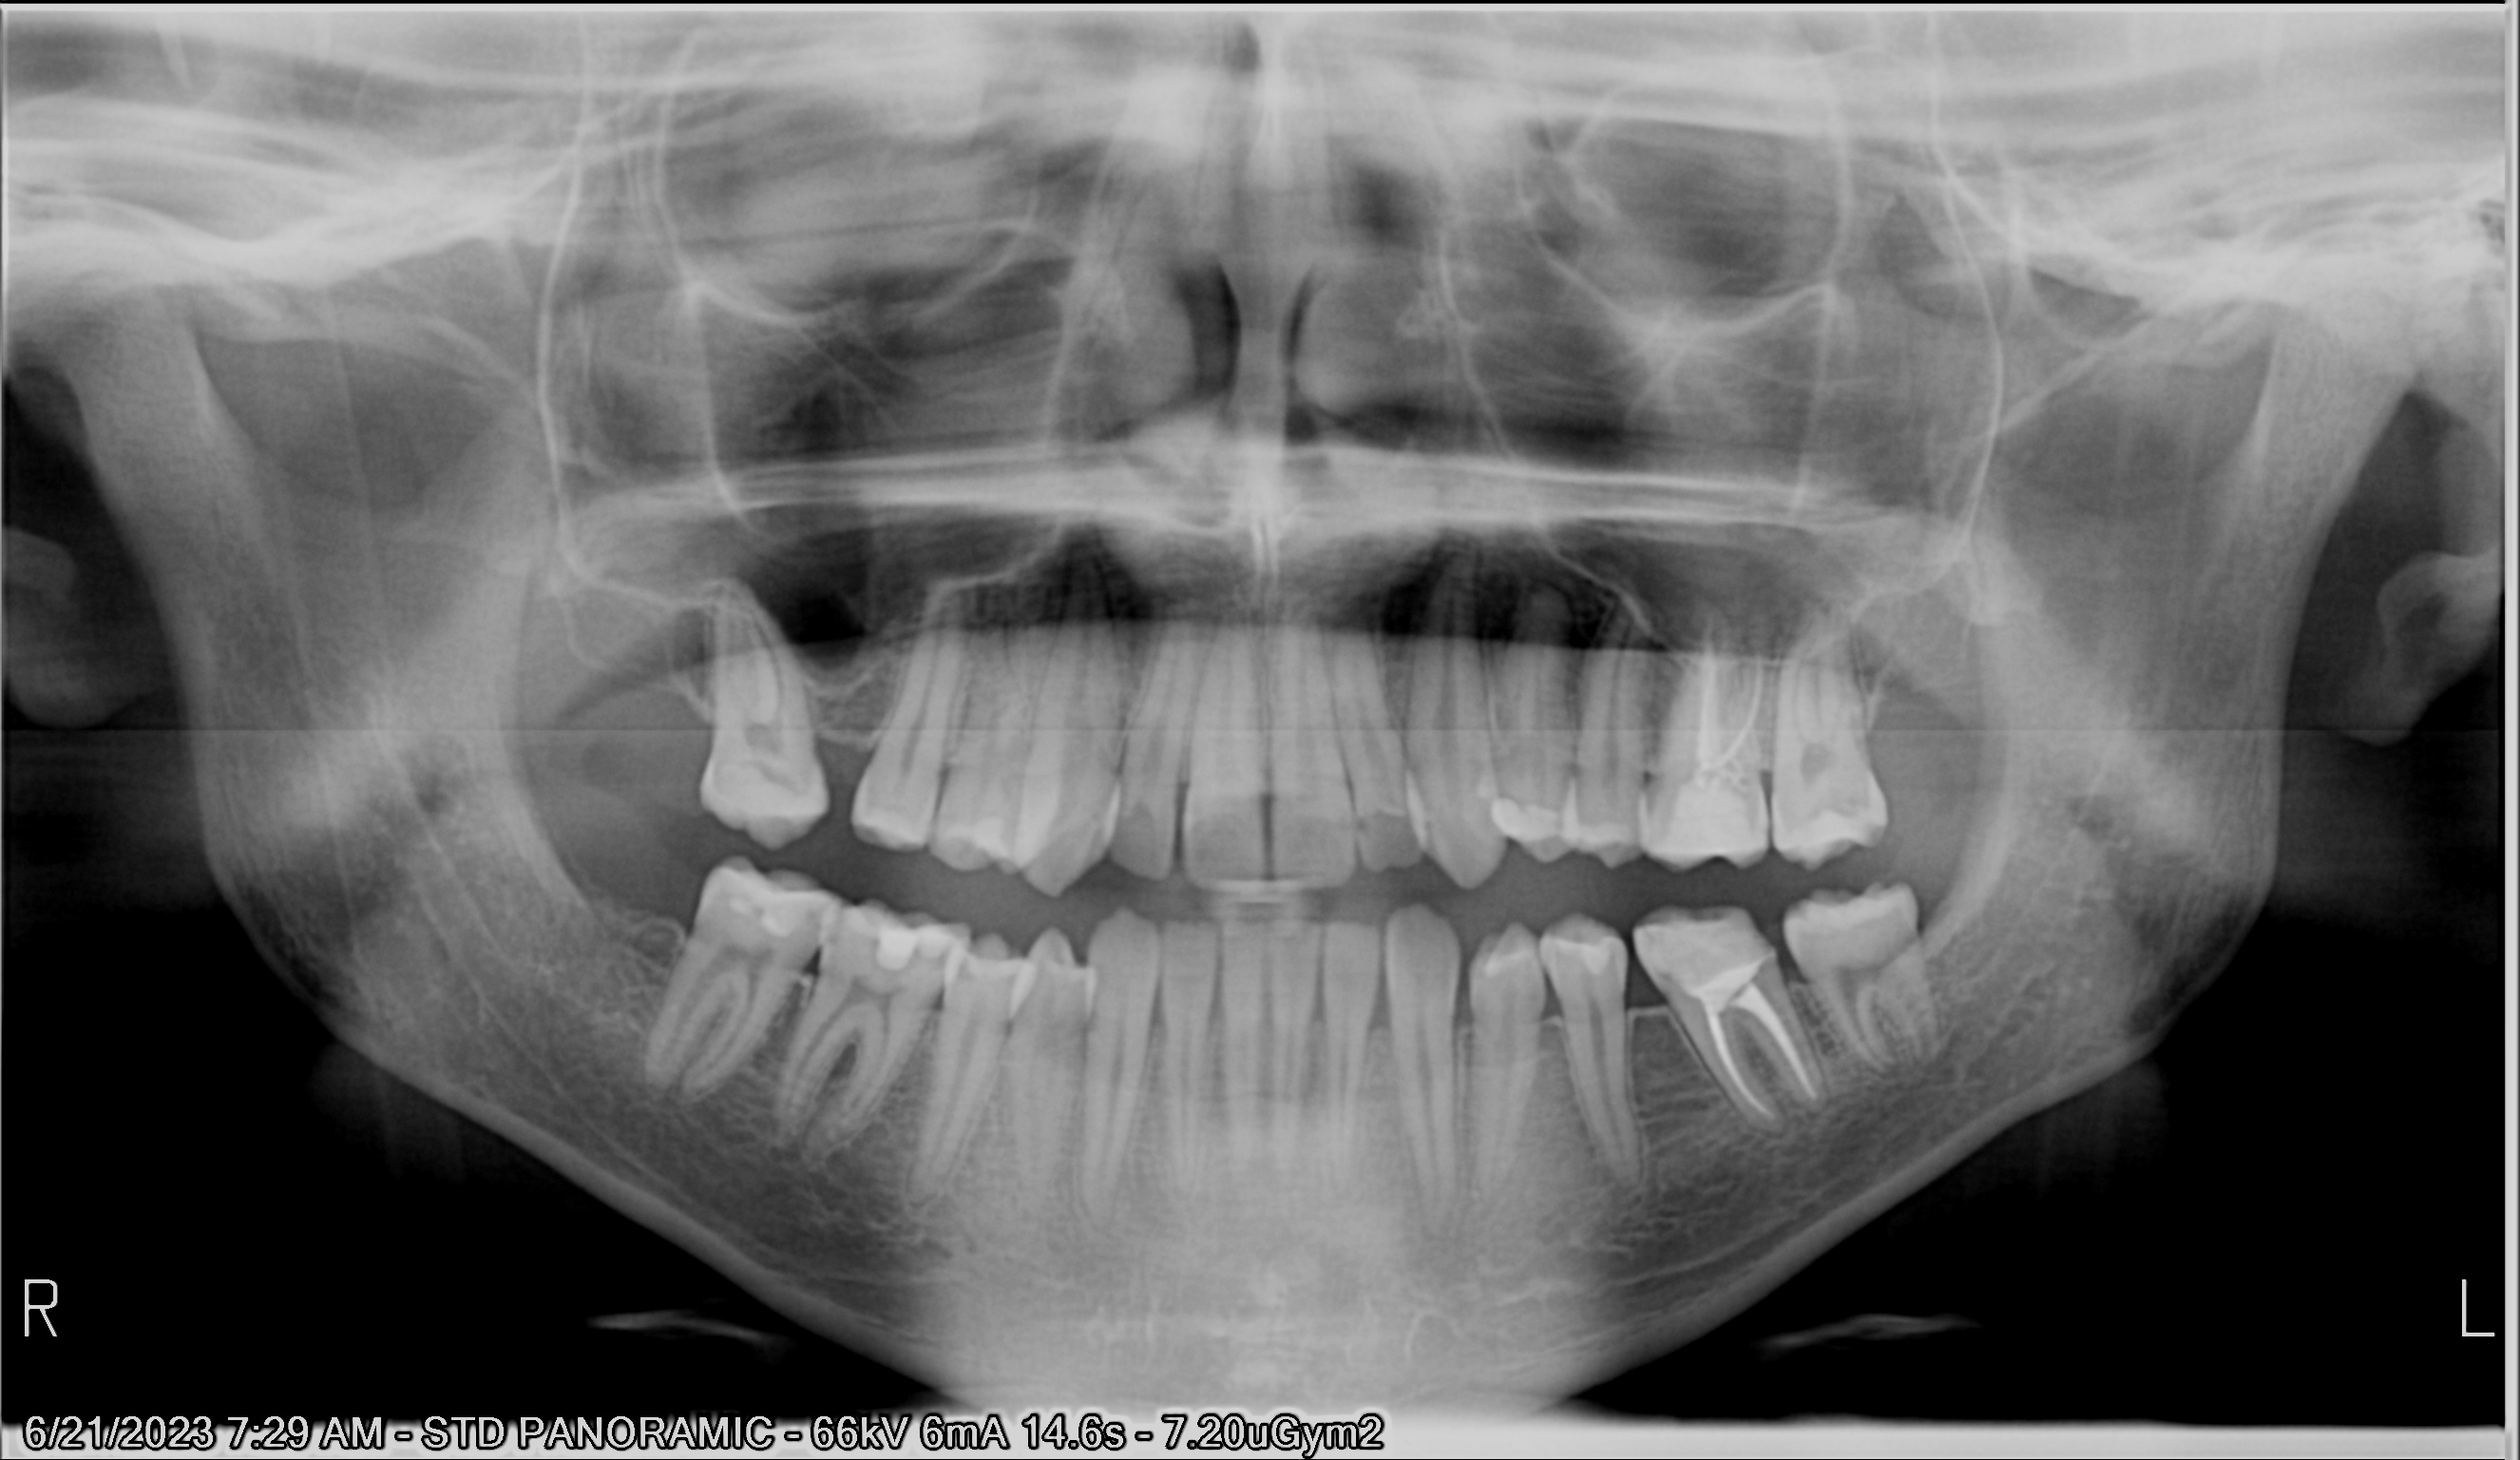CAR: (728, 754, 815, 794), (1808, 786, 1865, 829)
END: (1751, 994, 1843, 1102), (1709, 1006, 1782, 1137), (1723, 624, 1770, 763), (1685, 619, 1719, 766)
OBT: (1636, 900, 1784, 996), (1653, 773, 1751, 866), (731, 862, 832, 946), (719, 777, 795, 838), (1492, 794, 1560, 852), (870, 902, 917, 982), (1796, 826, 1876, 866), (1575, 914, 1606, 979)
